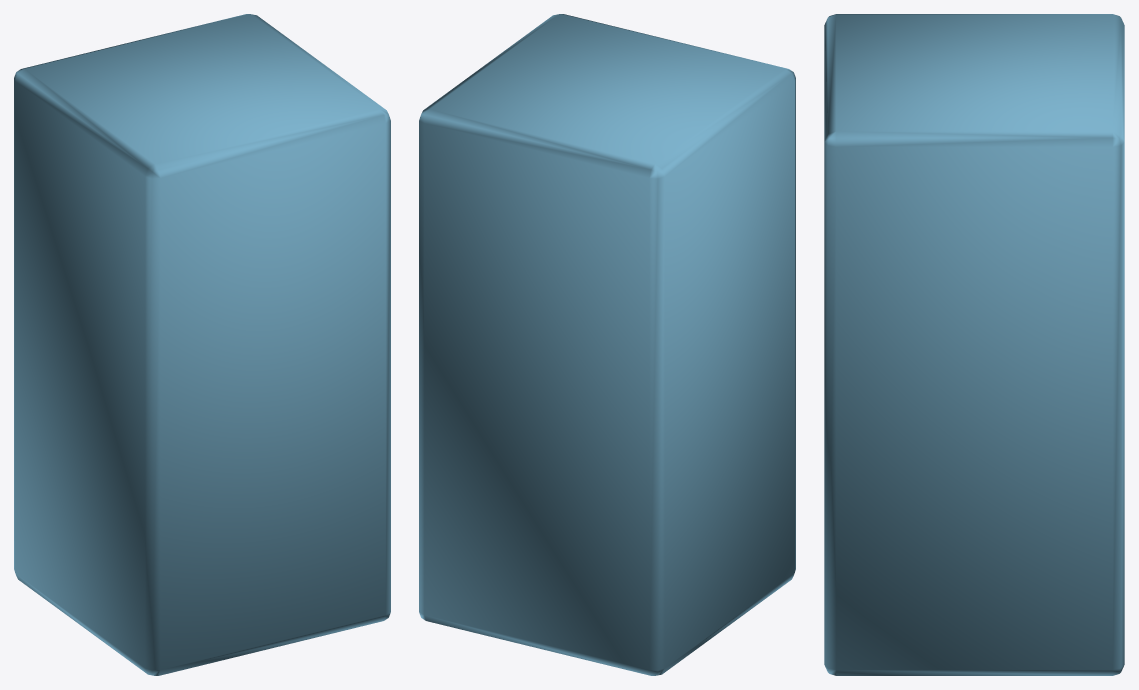
File: S02_SHORT_COLUMN.fbx
3 views of the same model, side by side, from view 1: azimuth 30°, elevation 25°; view 2: azimuth 150°, elevation 25°; view 3: azimuth 270°, elevation 25° (orthographic). The views are drawn at different scales.
Parts seen in each view (by area): view 1: S02_SHORT_COLUMN; view 2: S02_SHORT_COLUMN; view 3: S02_SHORT_COLUMN.
Part boxes in pixels (x1=…): S02_SHORT_COLUMN: x1=14, y1=14, x2=390, y2=675; S02_SHORT_COLUMN: x1=419, y1=14, x2=795, y2=675; S02_SHORT_COLUMN: x1=824, y1=14, x2=1124, y2=675.
Size of the model in its own units: 100 by 200 by 100.
